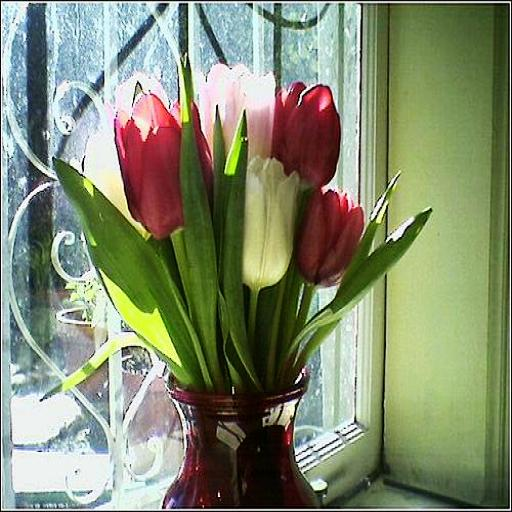tulip: (113, 92, 210, 236), (200, 64, 276, 159), (243, 158, 298, 287), (299, 181, 364, 285), (275, 79, 341, 181)
